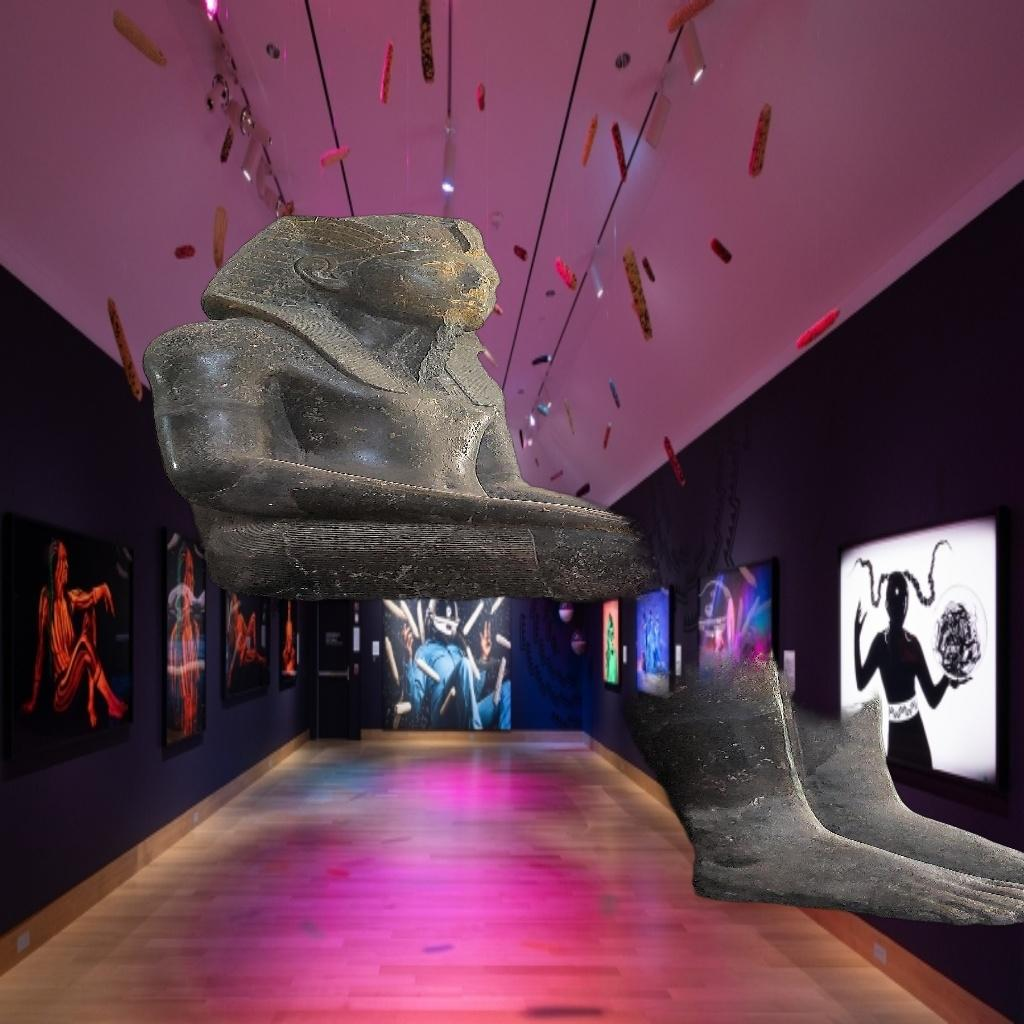Seated Statue of Thutmose III: (51, 210, 1024, 1017)
